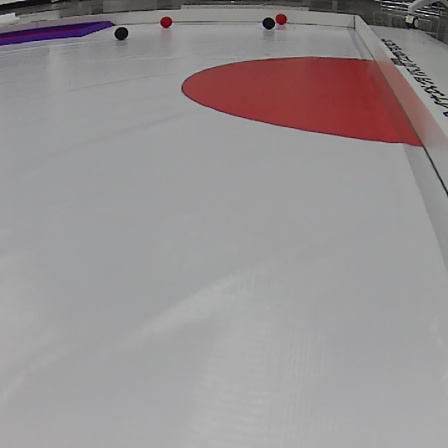black: (114, 24, 131, 41), (260, 17, 277, 27)
red: (276, 13, 290, 25), (158, 17, 174, 27)
red_aim: (0, 20, 114, 41)
red_base: (178, 55, 425, 153)
